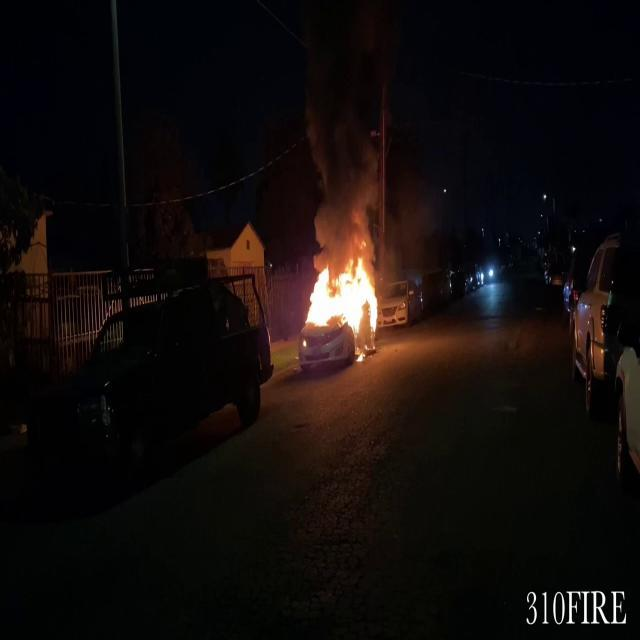Fire: (298, 248, 384, 352)
Smoke: (299, 1, 387, 248)
